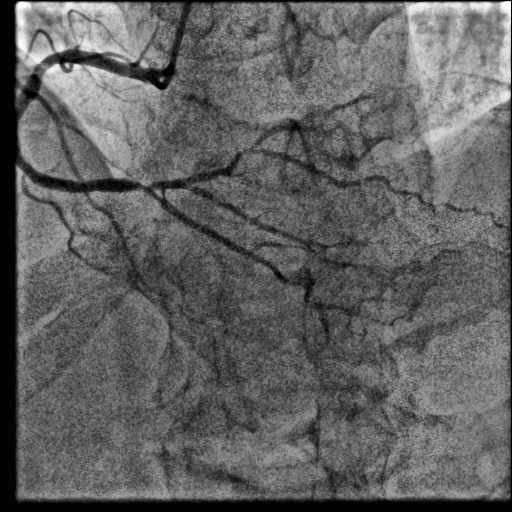pborca: (150, 148, 503, 227)
pda: (147, 190, 354, 317)
rca: (8, 49, 158, 192)
